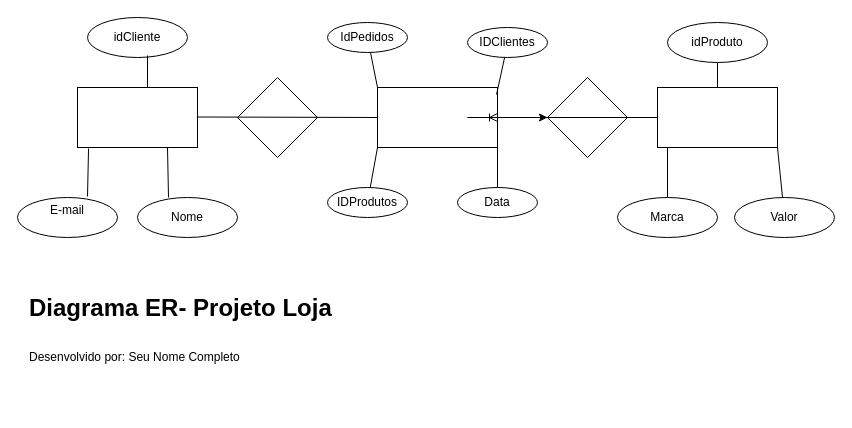
The diagram is 852 pixels wide and 428 high, and some of its shapes have lost their labels. The centre of each missing label's shape, as x and y in pixels:
"Clientes" belongs at (137,117).
"Pedidos" belongs at (437,117).
"Produtos" belongs at (717,117).
